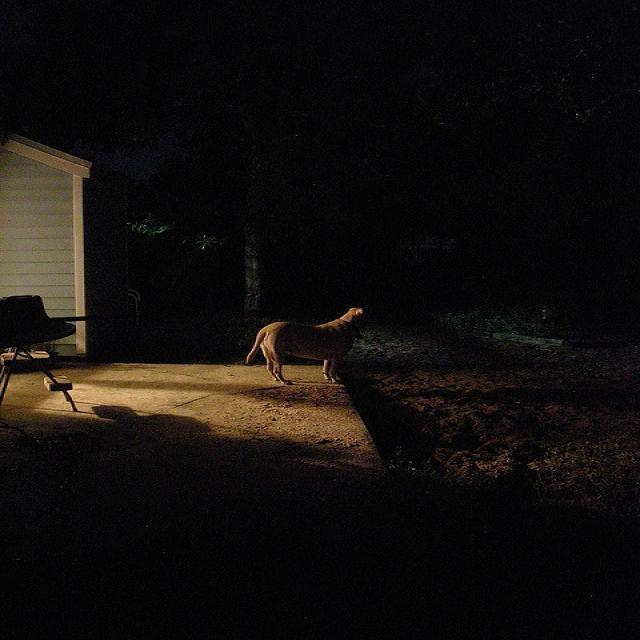dog: (257, 269, 425, 399)
